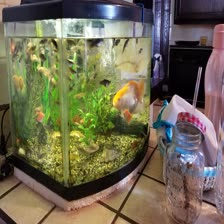Cuezo: (112, 75, 146, 112)
